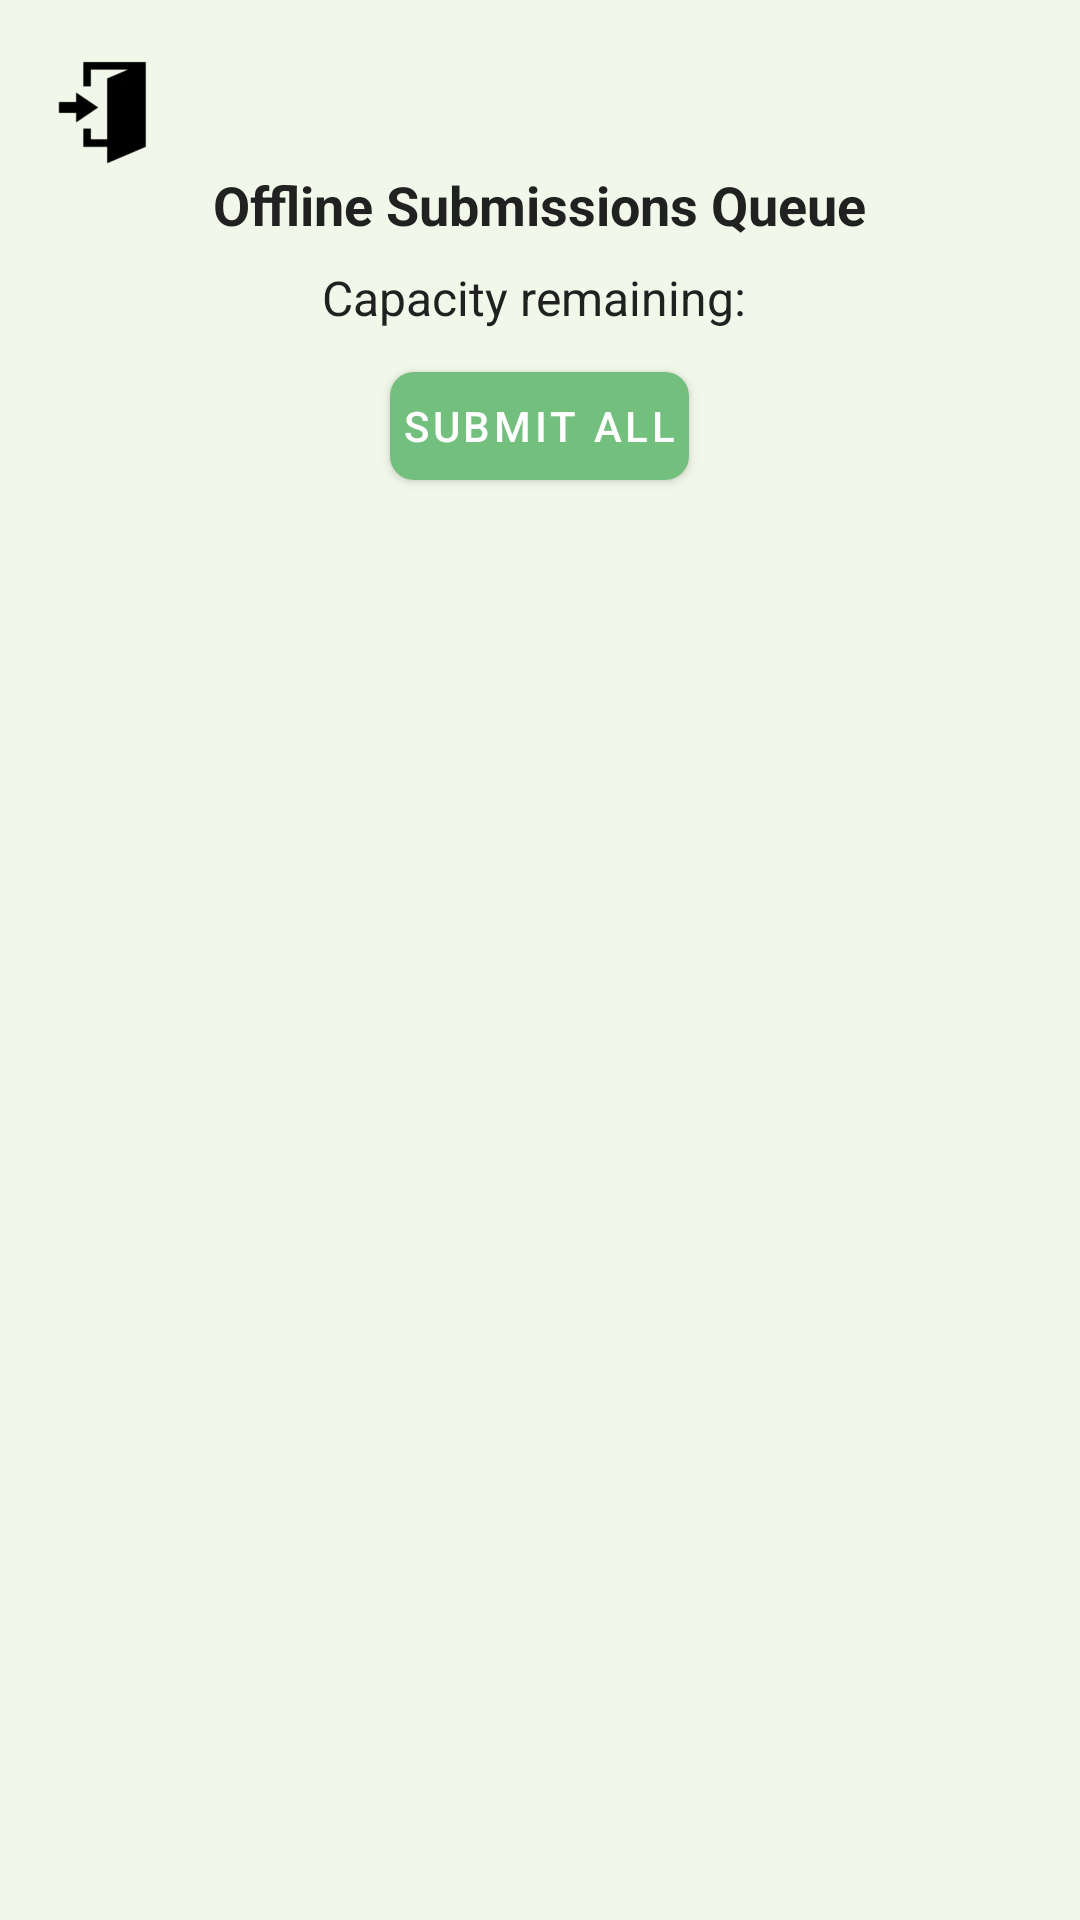

Locate icon controls on the screen. Image size 1080px x 1920px, boxes as (x1, y1, x2, y2).
exit: (58, 62, 146, 163)
